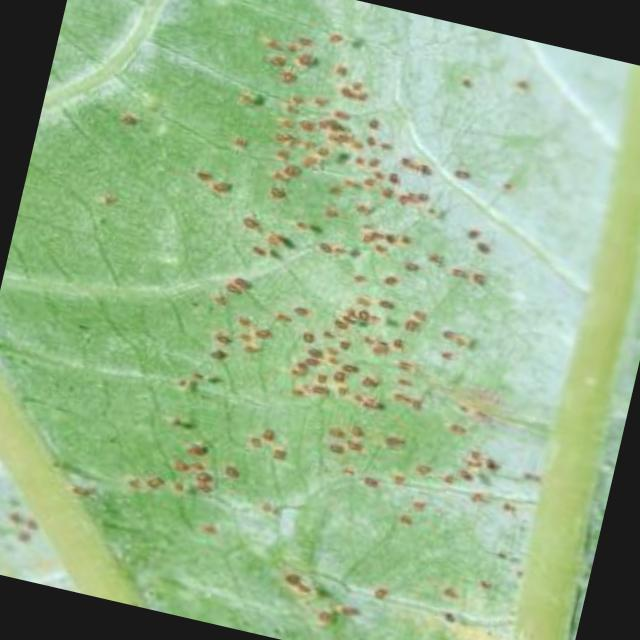spider mite: (114, 0, 578, 579)
